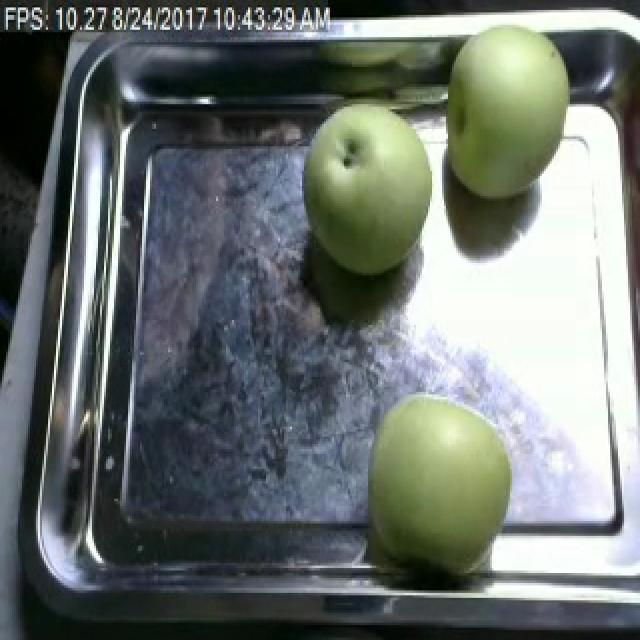50-_ripeness: (349, 384, 532, 576), (280, 92, 440, 297), (442, 26, 578, 202)
